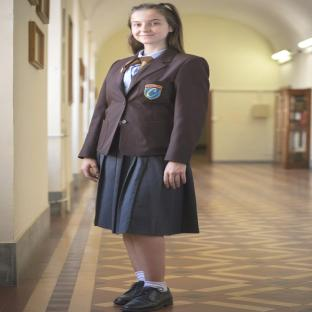Human: (79, 3, 209, 312)
